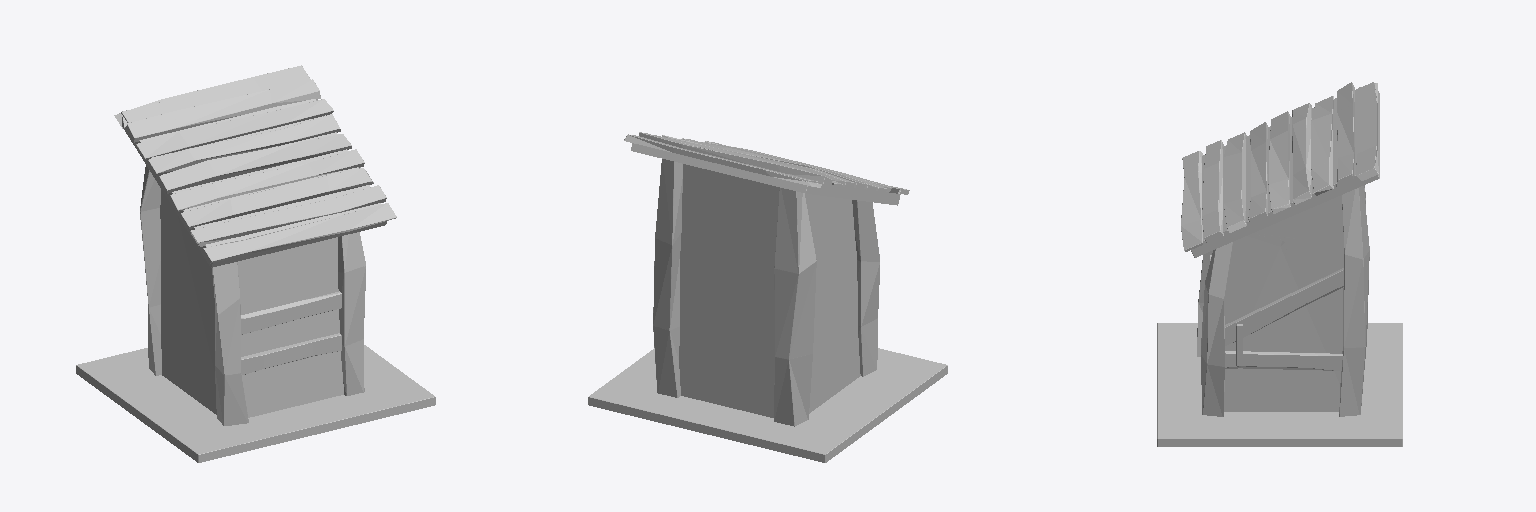
File: baño.obj
The picture shows the model from 3 angles: view 1: azimuth 30°, elevation 25°; view 2: azimuth 150°, elevation 25°; view 3: azimuth 270°, elevation 25°; orthographic projection.
Parts seen in each view (by area): view 1: Banio_Malla; view 2: Banio_Malla; view 3: Banio_Malla.
Boxes of the visible parts, x1=… form: Banio_Malla: x1=76, y1=65, x2=435, y2=462; Banio_Malla: x1=588, y1=132, x2=947, y2=462; Banio_Malla: x1=1157, y1=82, x2=1402, y2=446.
Bounding box in the file's own units: 0.0386 × 0.0414 × 0.0345.